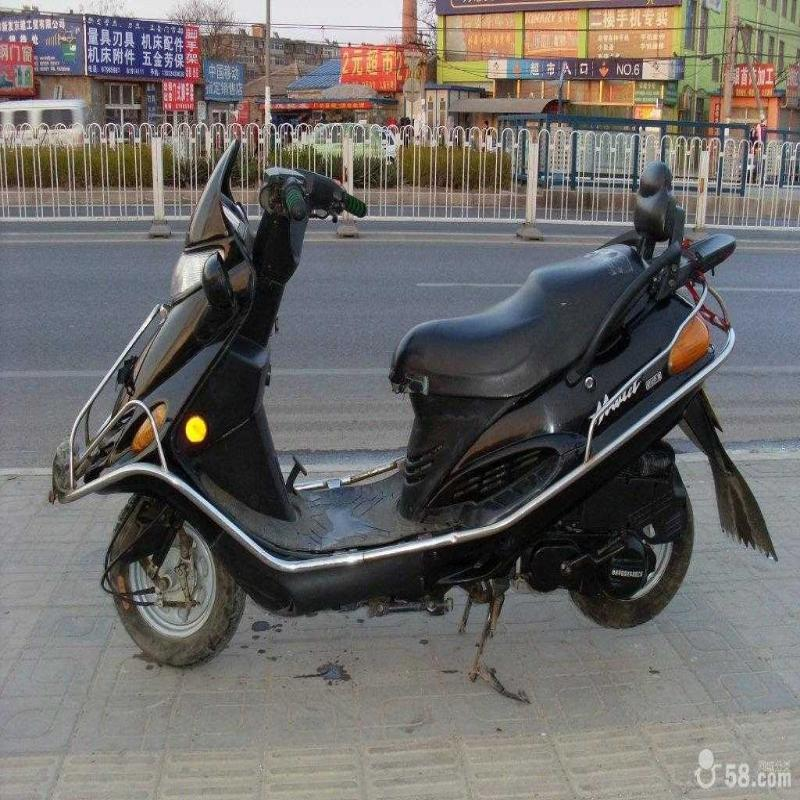bike: (68, 134, 767, 679)
